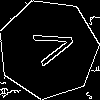V: (23, 24, 78, 70)
